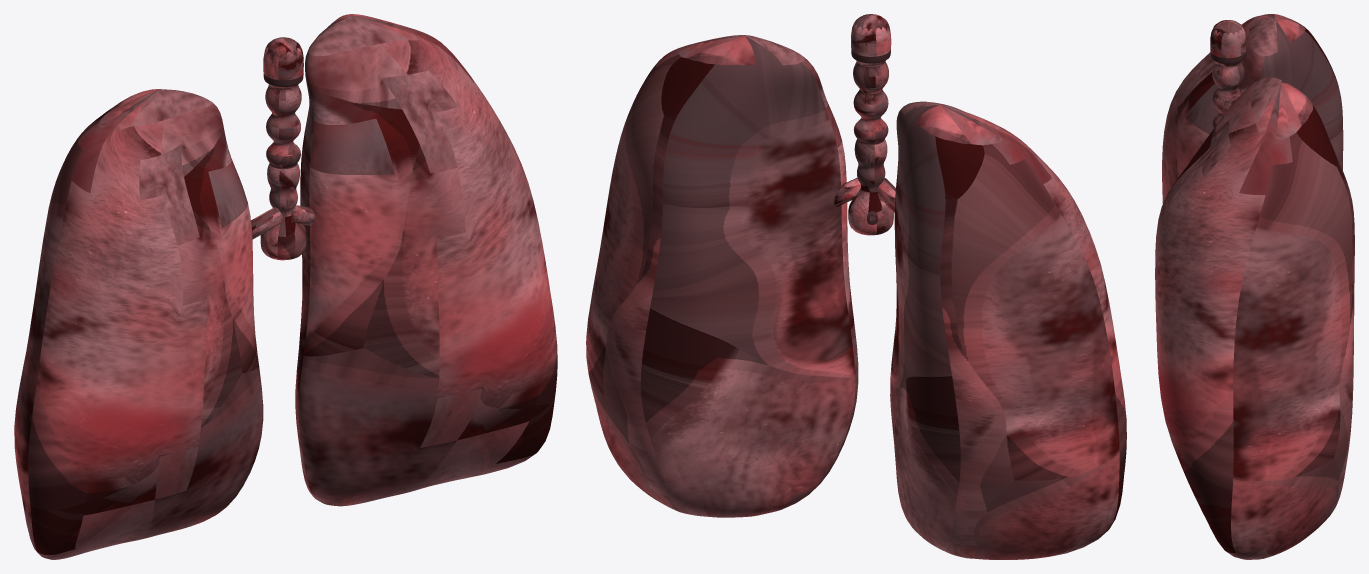
The model's file is lung.obj.
3 views of the same model, side by side, from view 1: azimuth 30°, elevation 25°; view 2: azimuth 150°, elevation 25°; view 3: azimuth 270°, elevation 25° (orthographic). The views are drawn at different scales.
Parts seen in each view (by area): view 1: Sphere.002, Sphere.001, Cylinder; view 2: Sphere.002, Sphere.001, Cylinder; view 3: Sphere.002, Sphere.001, Cylinder.
Part boxes in pixels (x1,y1,x2,y2): Sphere.002: (295,14,557,506); Sphere.001: (14,89,263,559); Cylinder: (260,37,306,260); Sphere.002: (586,35,858,517); Sphere.001: (890,101,1126,559); Cylinder: (848,14,893,235); Sphere.002: (1155,77,1354,559); Sphere.001: (1162,14,1343,203); Cylinder: (1210,20,1246,127).
Size of the model in its own units: 7.82 by 7.27 by 2.93.
3 materials, 3 textured.
